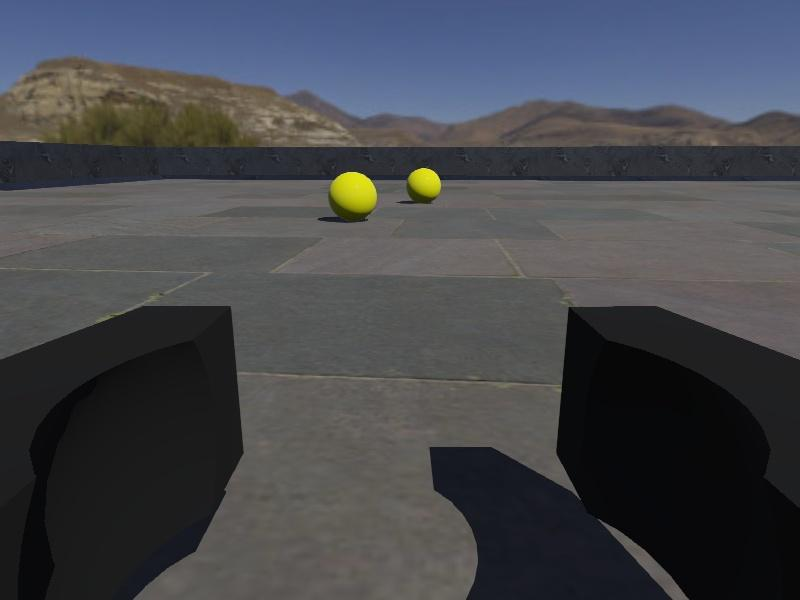yellow ball: (329, 171, 378, 223), (406, 168, 442, 205)
